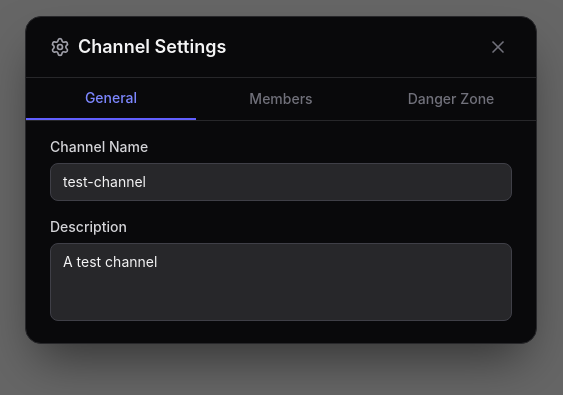
Test: ChannelSettingsModal › archive UI › renders "Restore" UI when is_archived is true
The image size is (563, 395).
Click the button "Danger Zone": (451, 99) [366,78,536,120]
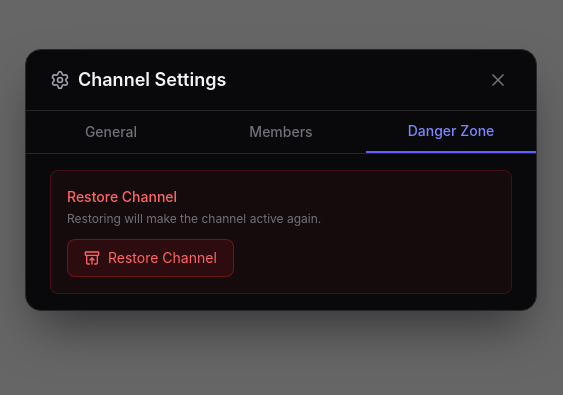
Expected: the text "Restoring will make the channel active again." is shown, [67,211,321,226]
